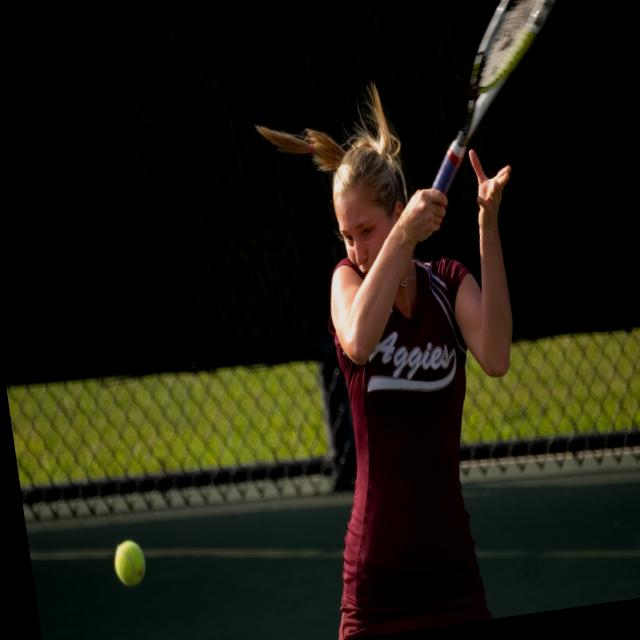Tennis Ball: (111, 538, 148, 589)
